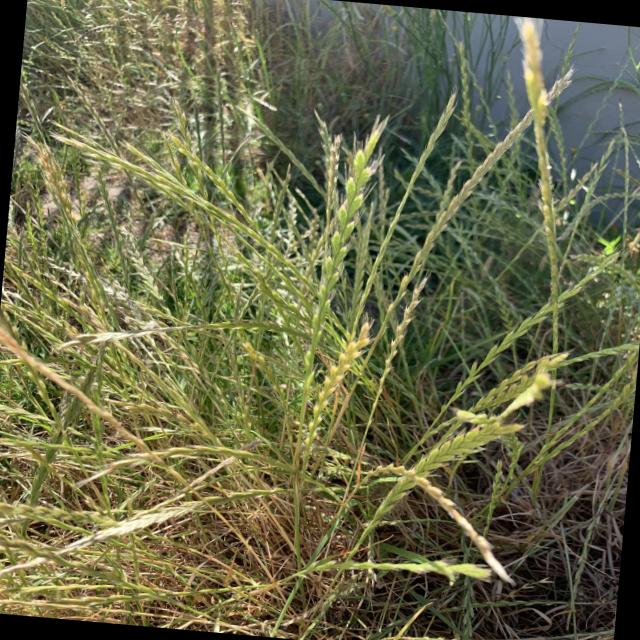Lolium: (48, 282, 444, 424), (400, 232, 614, 488), (299, 406, 513, 640), (272, 130, 386, 534), (139, 527, 490, 640), (49, 130, 309, 272), (0, 330, 178, 467), (366, 84, 460, 310), (484, 18, 573, 228)
